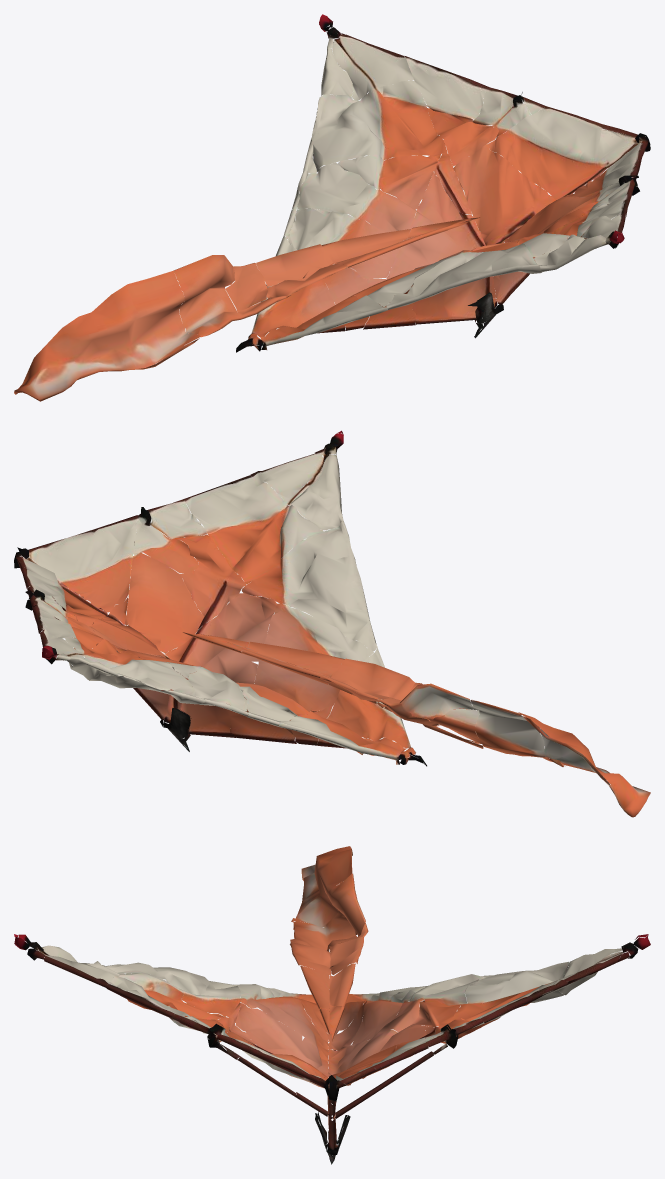
Rendered from kite.glb.
3 views of the same model, one above another, from view 1: azimuth 30°, elevation 25°; view 2: azimuth 150°, elevation 25°; view 3: azimuth 270°, elevation 25° (orthographic). The views are drawn at different scales.
Visible parts, largest first — view 1: tripo_node_ab95317d-39e1-4c47-9dcc-fc4e8313a80f; view 2: tripo_node_ab95317d-39e1-4c47-9dcc-fc4e8313a80f; view 3: tripo_node_ab95317d-39e1-4c47-9dcc-fc4e8313a80f.
Boxes of the visible parts, <box> form: tripo_node_ab95317d-39e1-4c47-9dcc-fc4e8313a80f: <box>14,14,650,401</box>; tripo_node_ab95317d-39e1-4c47-9dcc-fc4e8313a80f: <box>14,430,650,817</box>; tripo_node_ab95317d-39e1-4c47-9dcc-fc4e8313a80f: <box>14,846,650,1164</box>.
Bounding box in the file's own units: 1 × 0.3254 × 0.8195.
Materials: 1 (1 with a texture image).
